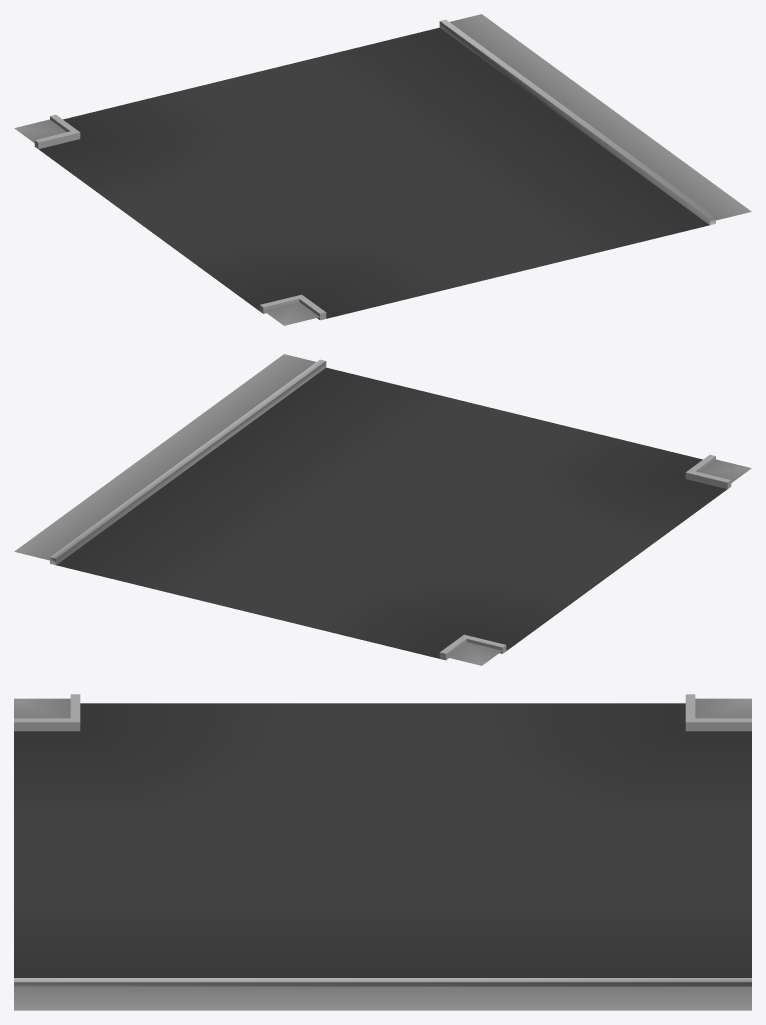
Rendered from road_003.glb.
3 views of the same model, one above another, from view 1: azimuth 30°, elevation 25°; view 2: azimuth 150°, elevation 25°; view 3: azimuth 270°, elevation 25° (orthographic). The views are drawn at different scales.
Parts seen in each view (by area): view 1: road_003; view 2: road_003; view 3: road_003.
Boxes of the visible parts, box(x1,y1,x2,y2) form: road_003: box(14, 14, 751, 325); road_003: box(14, 354, 751, 665); road_003: box(14, 694, 751, 1010).
Size of the model in its own units: 15 by 0.2 by 15.
Materials: 1 (1 with a texture image).
